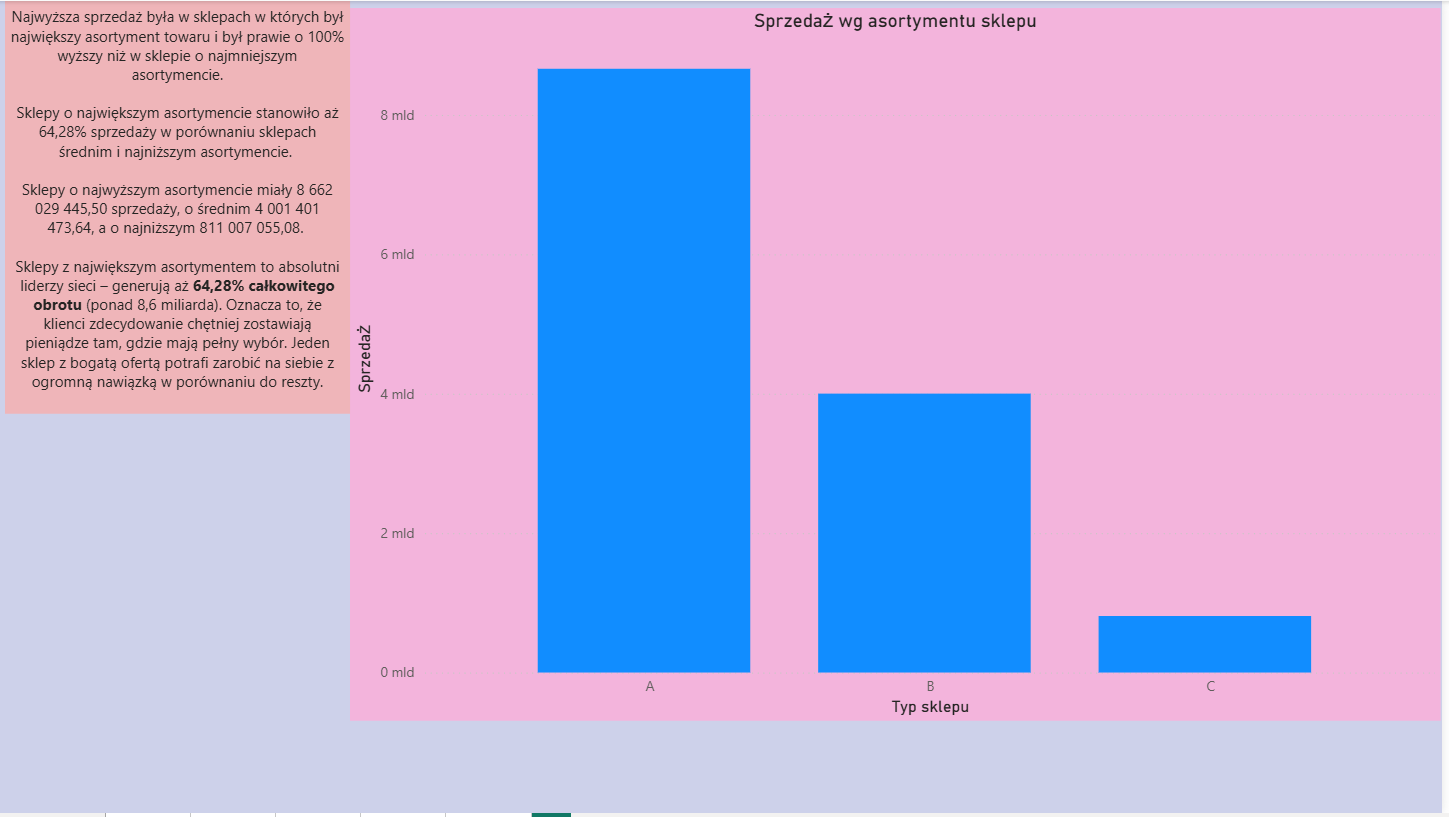

The page's visual inventory and layout, read from the dashboard file:
{"tool":"powerbi","page":{"name":"Strona 5","canvas":[1280,720],"ordinal":4},"visuals":[{"type":"columnChart","title":"Sprzedaż wg asortymentu sklepu","fields":{"Category":["Stores_Metadata.Type"],"Y":["Sum(Walmart_Sales.Weekly_Sales)"]},"box":[312.5,6.3,967.2,632.2],"z":0},{"type":"textbox","box":[6.2,0,305.9,366.2],"z":1000}]}

Visuals, with their boxes in screenshot pixels (x1, y1, x2, y2), scaled from the page's 1280x720 canvas onto the 1449x817 screenshot:
"Sprzedaż wg asortymentu sklepu" columnChart: [354,7,1448,725]
textbox: [7,0,353,416]
